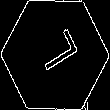L_SW: (29, 29, 81, 81)
